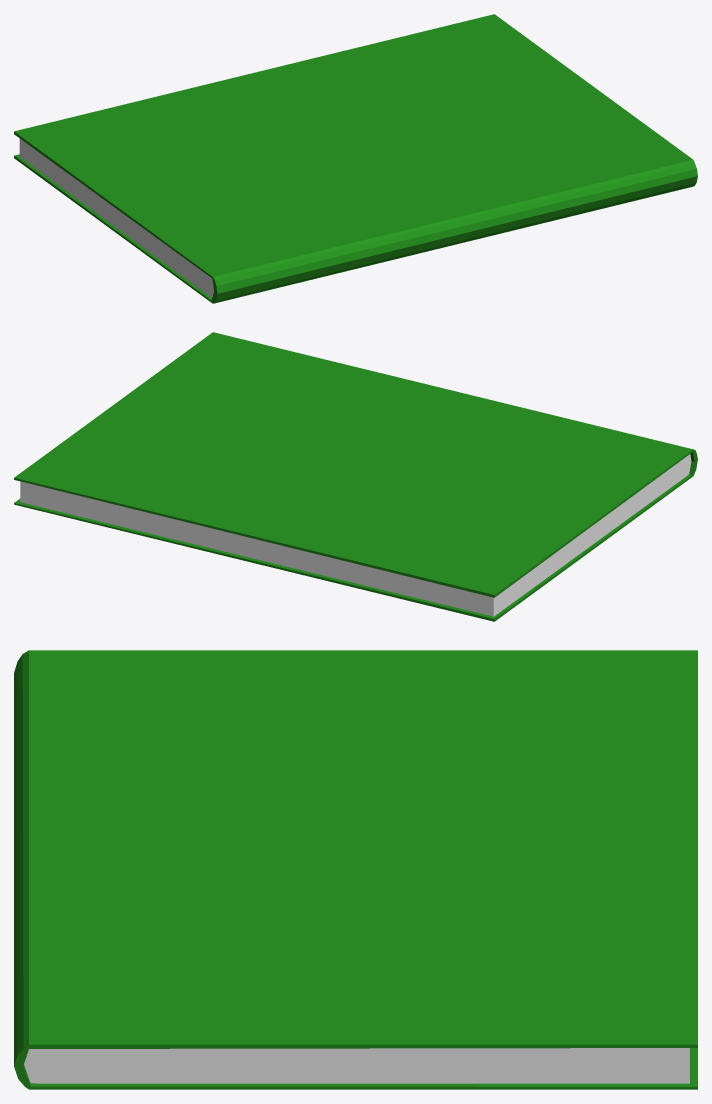
Rendered from SM_Book_002.fbx.
3 views of the same model, one above another, from view 1: azimuth 30°, elevation 25°; view 2: azimuth 150°, elevation 25°; view 3: azimuth 270°, elevation 25° (orthographic). The views are drawn at different scales.
Visible parts, largest first — view 1: Book_02; view 2: Book_02; view 3: Book_02.
Part boxes in pixels (box(x1,y1,x2,y2)): Book_02: box(14, 14, 697, 303); Book_02: box(14, 332, 697, 621); Book_02: box(14, 650, 697, 1089).
Bounding box in the file's own units: 30 × 1.6 × 22.
